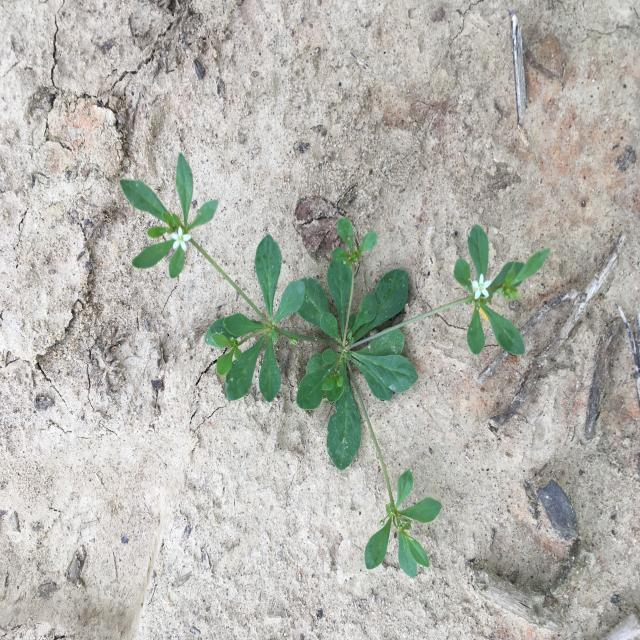Carpetweed: (119, 152, 551, 580)
